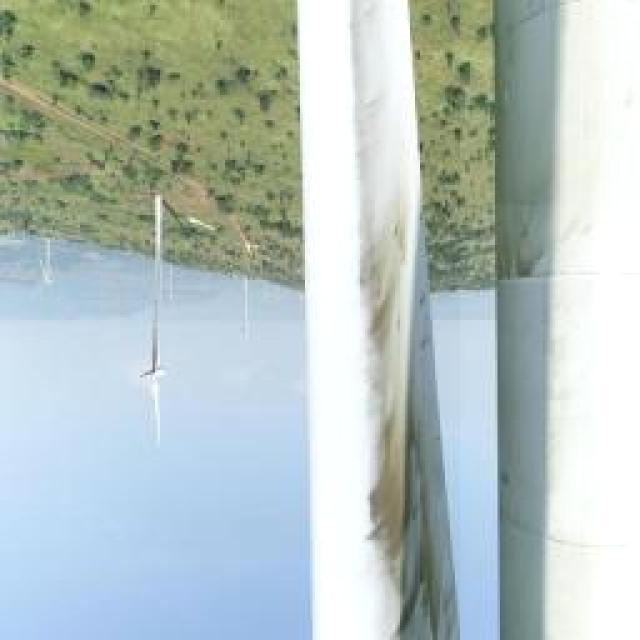Dirt: (349, 0, 464, 640), (490, 0, 640, 277)
